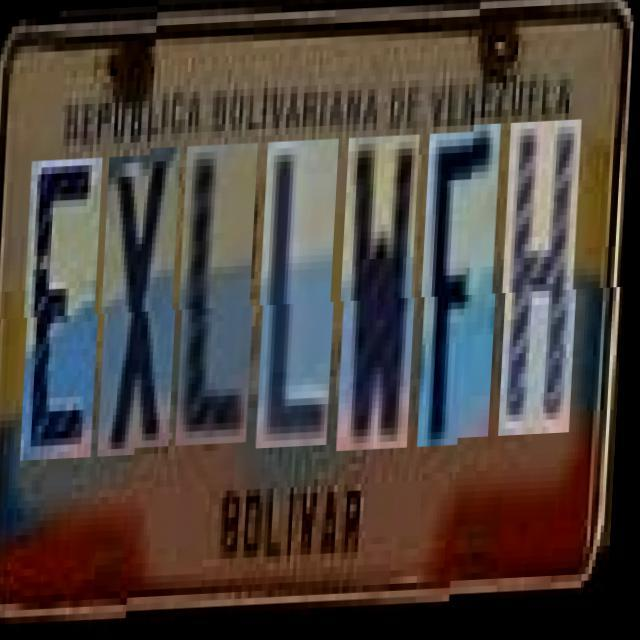E: (25, 153, 108, 454)
F: (422, 136, 505, 452)
H: (503, 132, 586, 448)
L: (261, 142, 344, 452), (180, 146, 263, 448)
W: (342, 139, 424, 455)
X: (102, 149, 186, 451)
